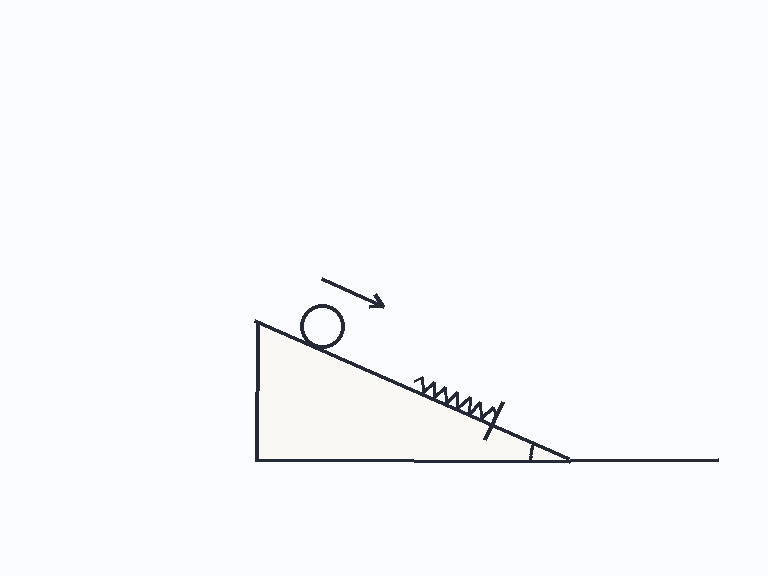ball: (298, 302, 346, 350)
ramp: (255, 318, 572, 462)
spring: (412, 375, 497, 420)
